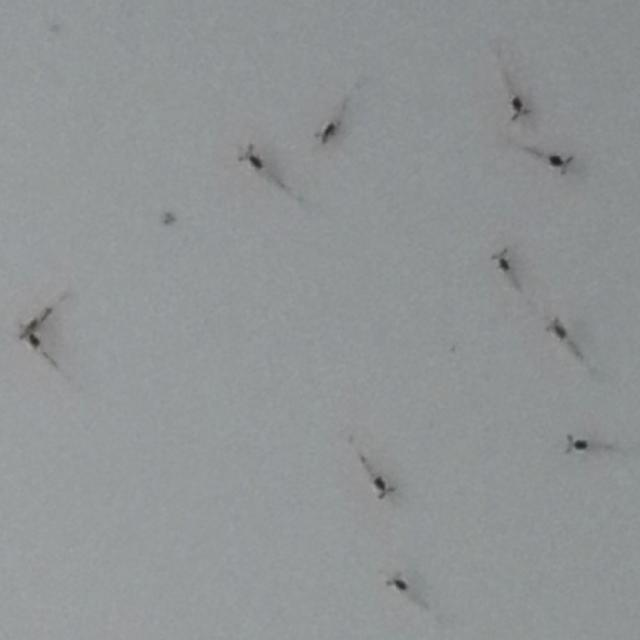shrimp-seed: (18, 306, 52, 336), (488, 244, 517, 276), (546, 148, 576, 176), (237, 142, 264, 172), (543, 316, 571, 344), (370, 474, 398, 502), (506, 93, 532, 123), (313, 120, 339, 146), (566, 430, 590, 455), (18, 325, 44, 348), (386, 571, 412, 593)
